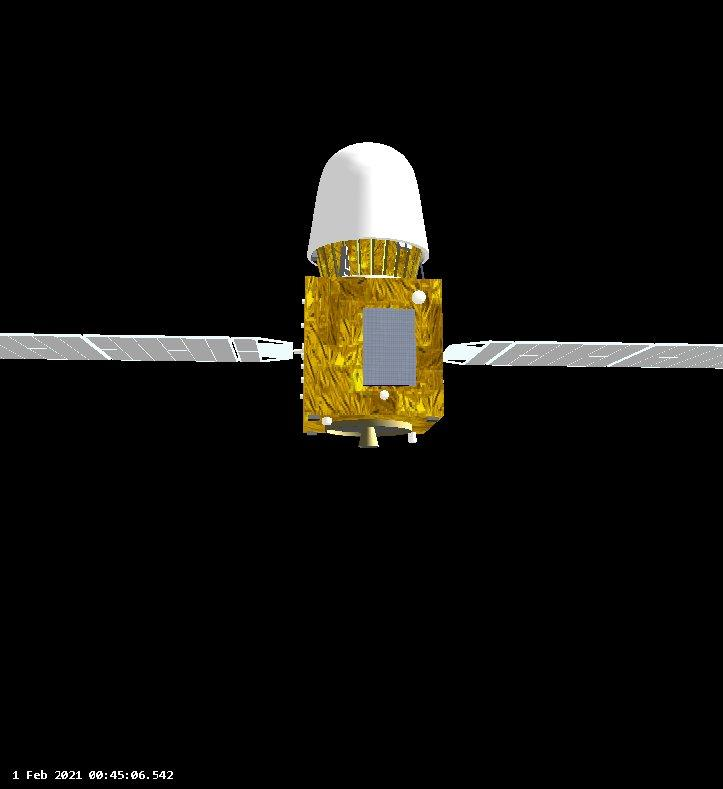antenna: (411, 290, 427, 305), (379, 390, 391, 400)
body: (298, 141, 446, 436)
solar: (460, 338, 723, 371), (0, 333, 263, 365), (362, 307, 417, 387)
thruster: (357, 425, 380, 451)
